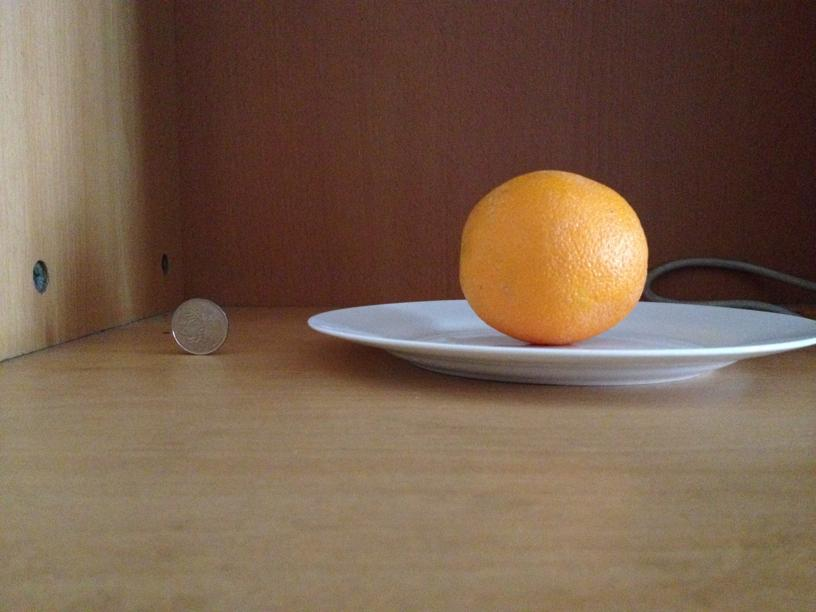coin: (171, 298, 229, 356)
orange: (457, 166, 647, 343)
